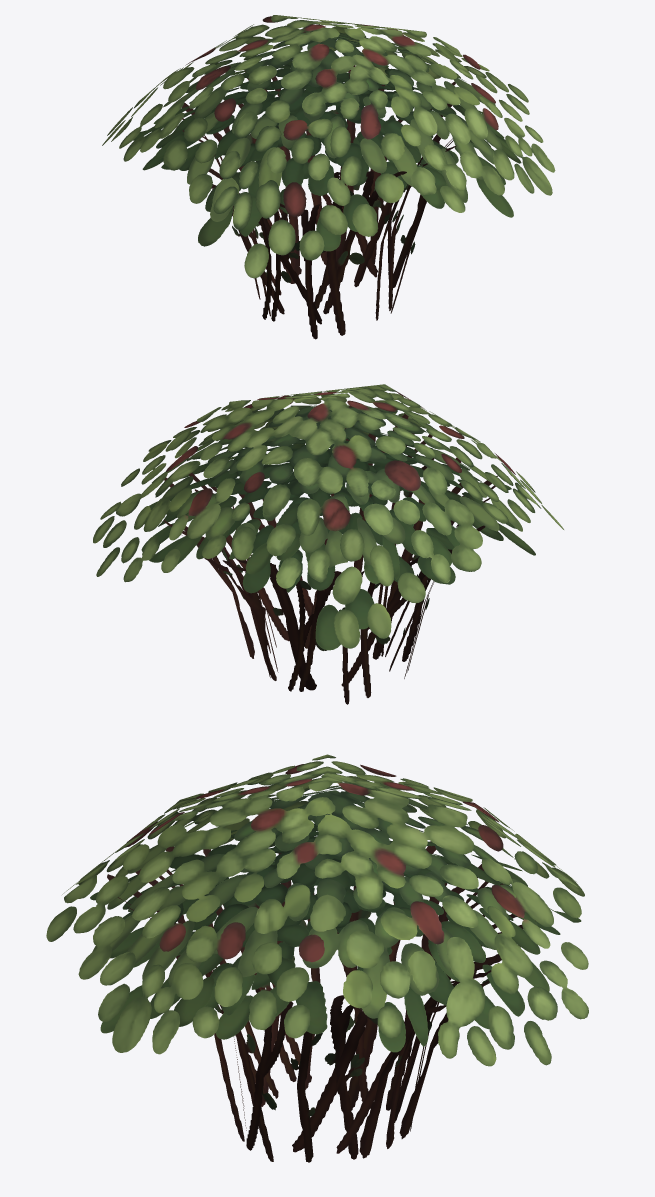
The model's file is planta-1.fbx.
The picture shows the model from 3 angles, top to bottom: view 1: azimuth 30°, elevation 25°; view 2: azimuth 150°, elevation 25°; view 3: azimuth 270°, elevation 25°; orthographic projection. The views are drawn at different scales.
Parts seen in each view (by area): view 1: planta-1; view 2: planta-1; view 3: planta-1.
Boxes of the visible parts, x1,y1,x2,y2 form: planta-1: [102, 15, 555, 339]; planta-1: [93, 384, 563, 704]; planta-1: [46, 754, 588, 1162].
Size of the model in its own units: 280 by 183 by 280.
